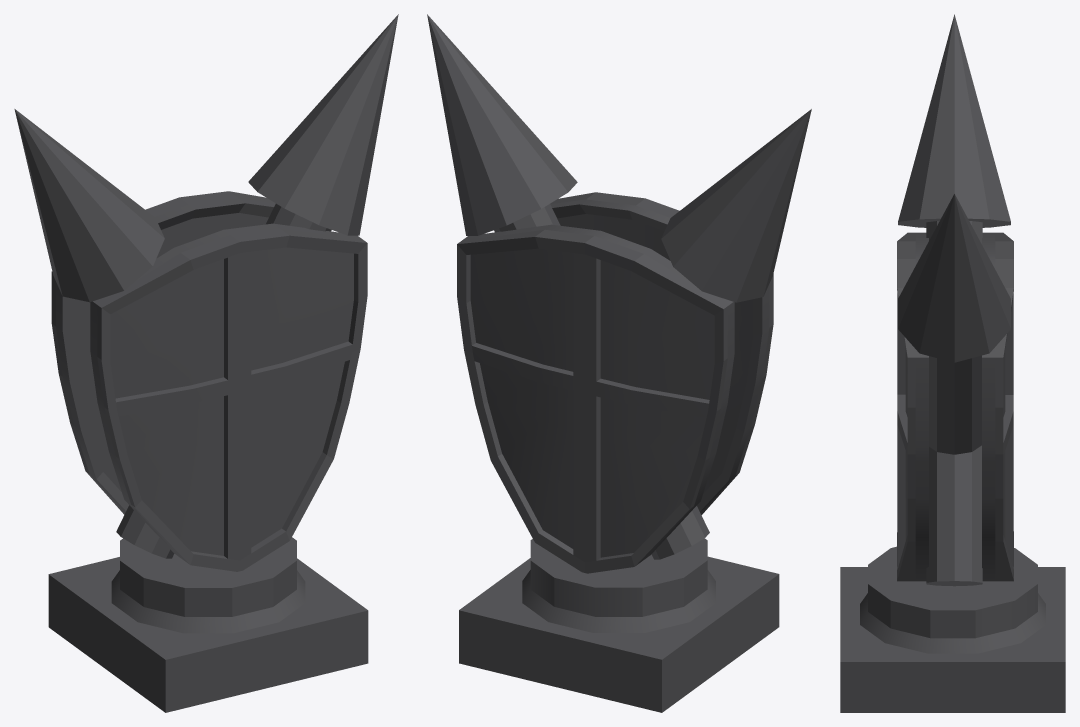
The model's file is Estatua.fbx.
The picture shows the model from 3 angles, left to right: view 1: azimuth 30°, elevation 25°; view 2: azimuth 150°, elevation 25°; view 3: azimuth 270°, elevation 25°; orthographic projection. The views are drawn at different scales.
Visible parts, largest first — view 1: pPlane10; view 2: pPlane10; view 3: pPlane10.
Part boxes in pixels (<box>): pPlane10: <box>14,14,398,712</box>; pPlane10: <box>427,14,811,712</box>; pPlane10: <box>840,14,1065,712</box>.
Bounding box in the file's own units: 3.79 × 5.51 × 2.
